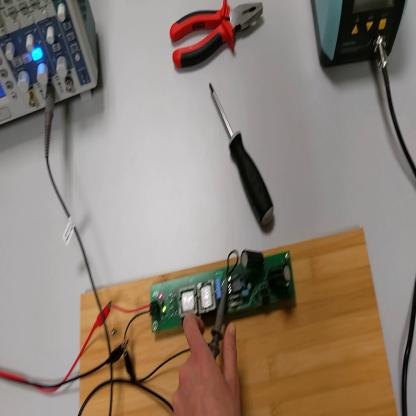hand: (173, 312, 239, 416)
high voltage board: (112, 252, 301, 345)
oscilloscope: (2, 2, 101, 130)
oscilloscope probe tip: (209, 282, 227, 361)
pliers: (169, 3, 265, 75)
screwdriver-: (209, 86, 277, 238)
welder station: (308, 2, 409, 74)
working area: (81, 229, 398, 416)
